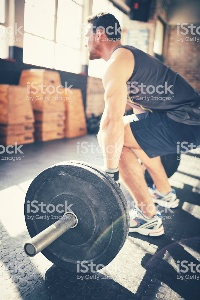barbell: (20, 160, 131, 275)
